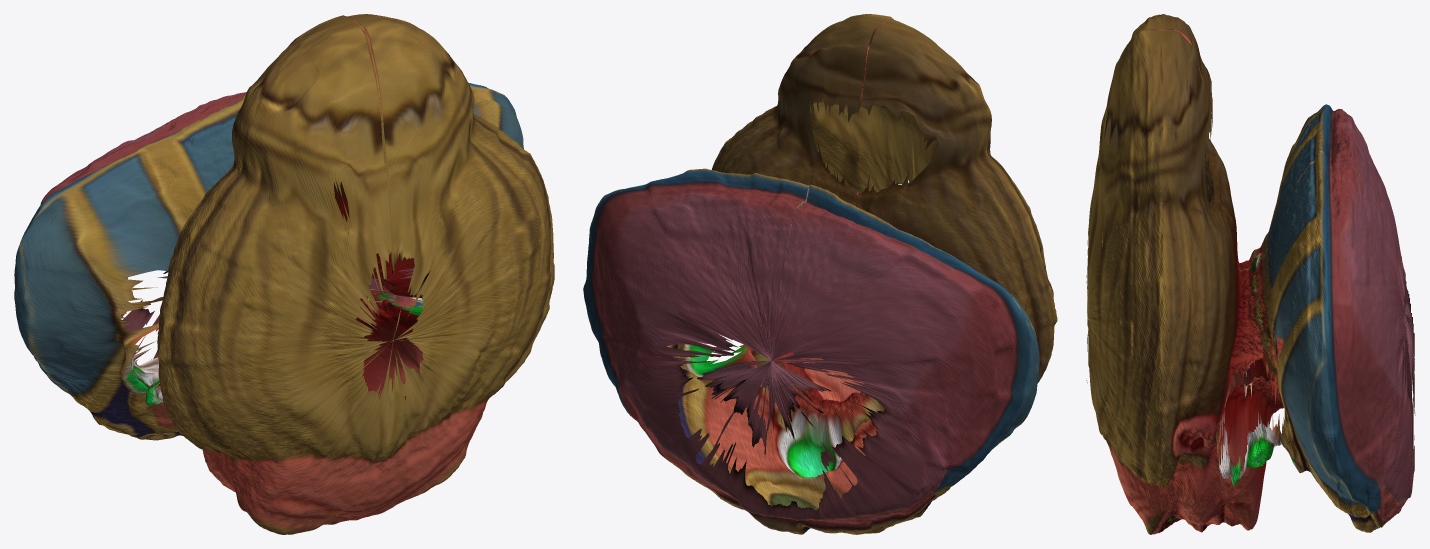
3 renders of one model, left to right at view 1: azimuth 30°, elevation 25°; view 2: azimuth 150°, elevation 25°; view 3: azimuth 270°, elevation 25°, orthographic. The views are drawn at different scales.
Parts seen in each view (by area): view 1: geometry_0; view 2: geometry_0; view 3: geometry_0.
Boxes of the visible parts, <box> form: geometry_0: <box>14,14,554,534</box>; geometry_0: <box>583,14,1057,534</box>; geometry_0: <box>1086,14,1415,534</box>.
Bounding box in the file's own units: 1.83 × 1.75 × 1.05.
Materials: 1 (1 with a texture image).
